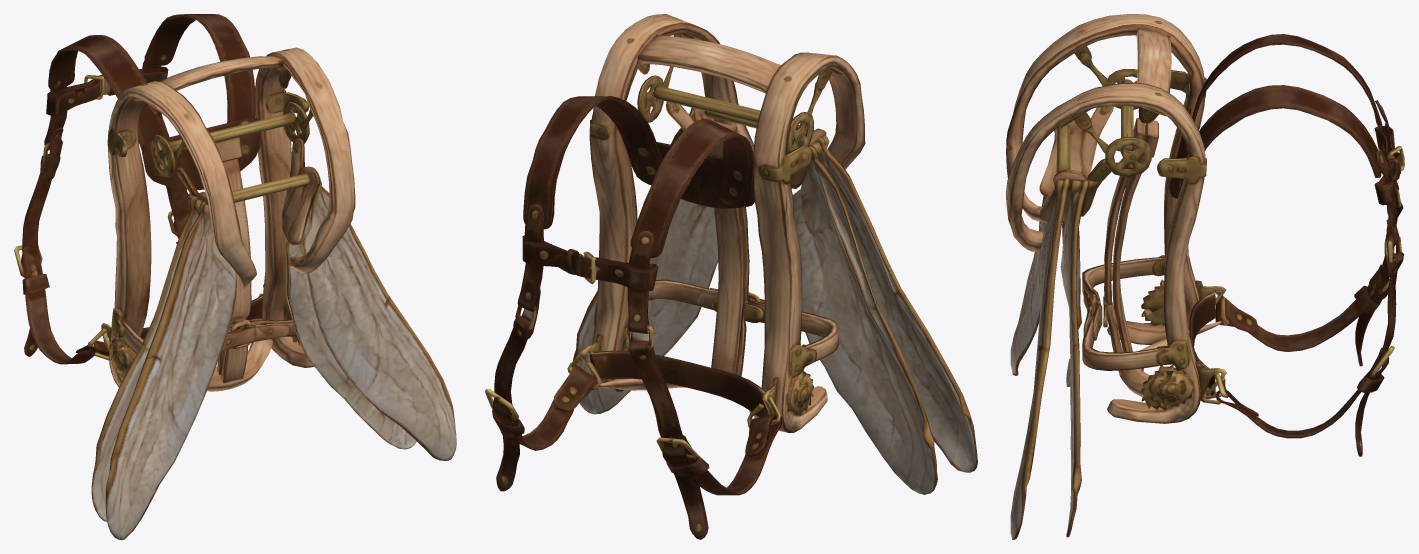
Rendered from Wear_FlightPack.fbx.
3 renders of one model, left to right at view 1: azimuth 30°, elevation 25°; view 2: azimuth 150°, elevation 25°; view 3: azimuth 270°, elevation 25°, orthographic. The views are drawn at different scales.
Parts seen in each view (by area): view 1: Wear_FlightPack; view 2: Wear_FlightPack; view 3: Wear_FlightPack.
Part boxes in pixels (x1,y1,x2,y2): Wear_FlightPack: (14, 14, 456, 539); Wear_FlightPack: (485, 14, 977, 539); Wear_FlightPack: (1006, 14, 1404, 539).
Size of the model in its own units: 0.4649 by 0.5 by 0.4411.
